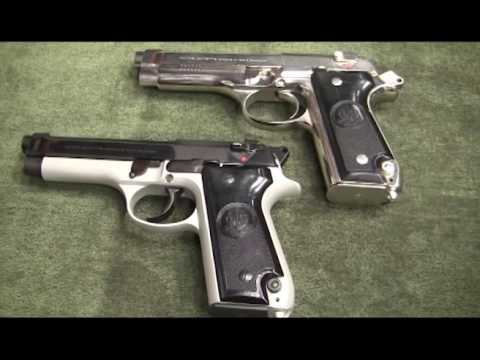Arma Real: (17, 131, 312, 317), (130, 46, 411, 204)
